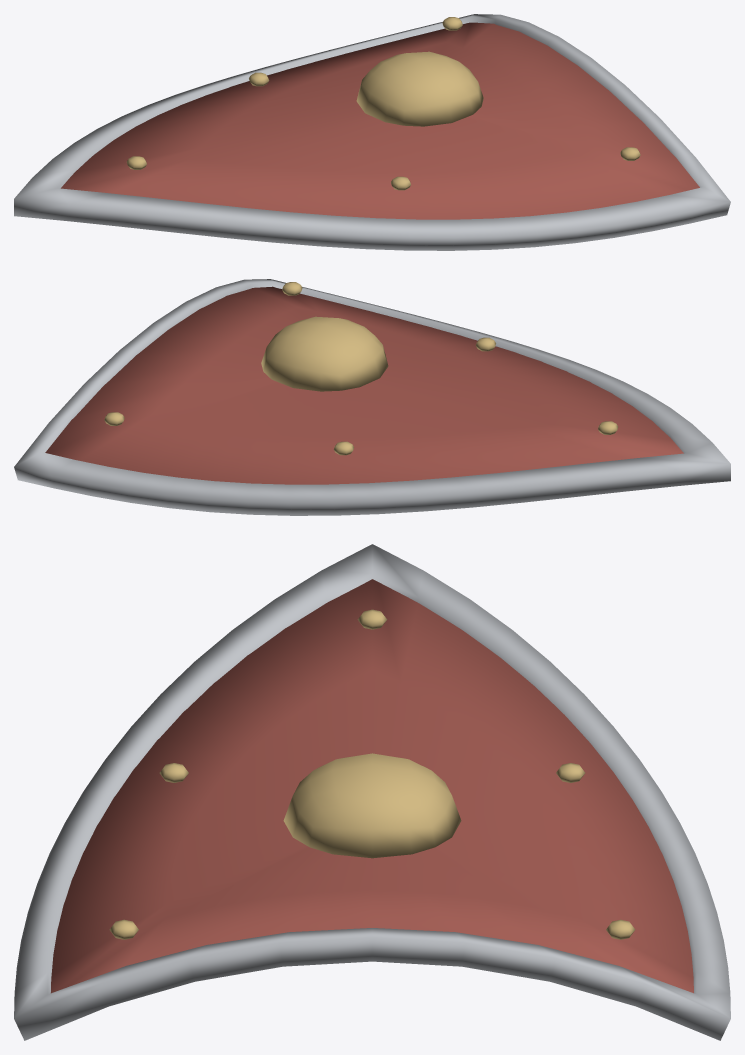
The model's file is shield.glb.
3 views of the same model, one above another, from view 1: azimuth 30°, elevation 25°; view 2: azimuth 150°, elevation 25°; view 3: azimuth 270°, elevation 25° (orthographic). The views are drawn at different scales.
Parts seen in each view (by area): view 1: shield; view 2: shield; view 3: shield.
Part boxes in pixels (box(x1,y1,x2,y2)): shield: box(14, 14, 730, 250); shield: box(14, 279, 730, 515); shield: box(14, 544, 730, 1040).
Bounding box in the file's own units: 0.64 × 0.1134 × 0.4836.
